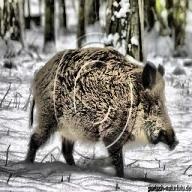boar: (26, 46, 178, 176)
